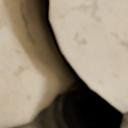broken_brick: (52, 0, 127, 110), (0, 0, 42, 127)
crack: (1, 0, 127, 127)
